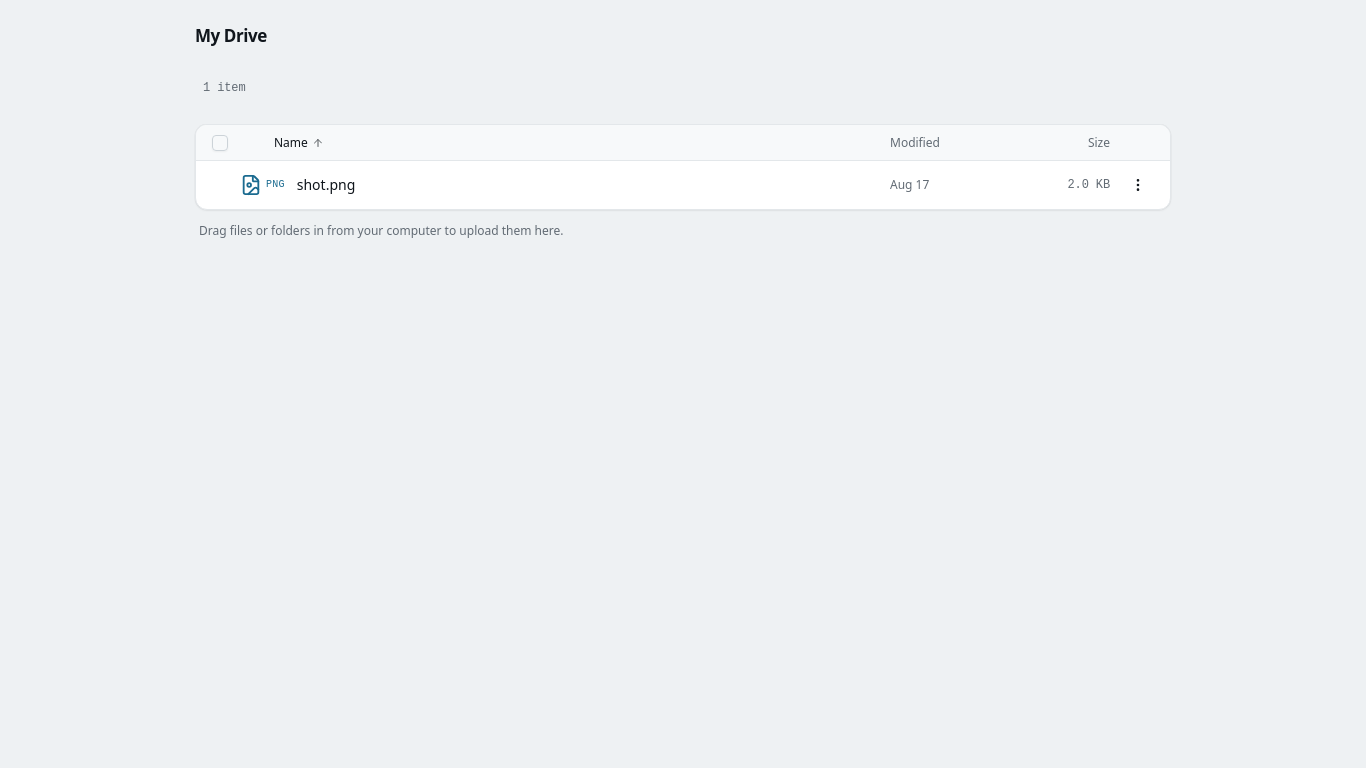
Test: opening a preview › closes on Escape and takes the parameter with it
Click the link "shot.png" at (326, 185), box 297,175 -> 355,194
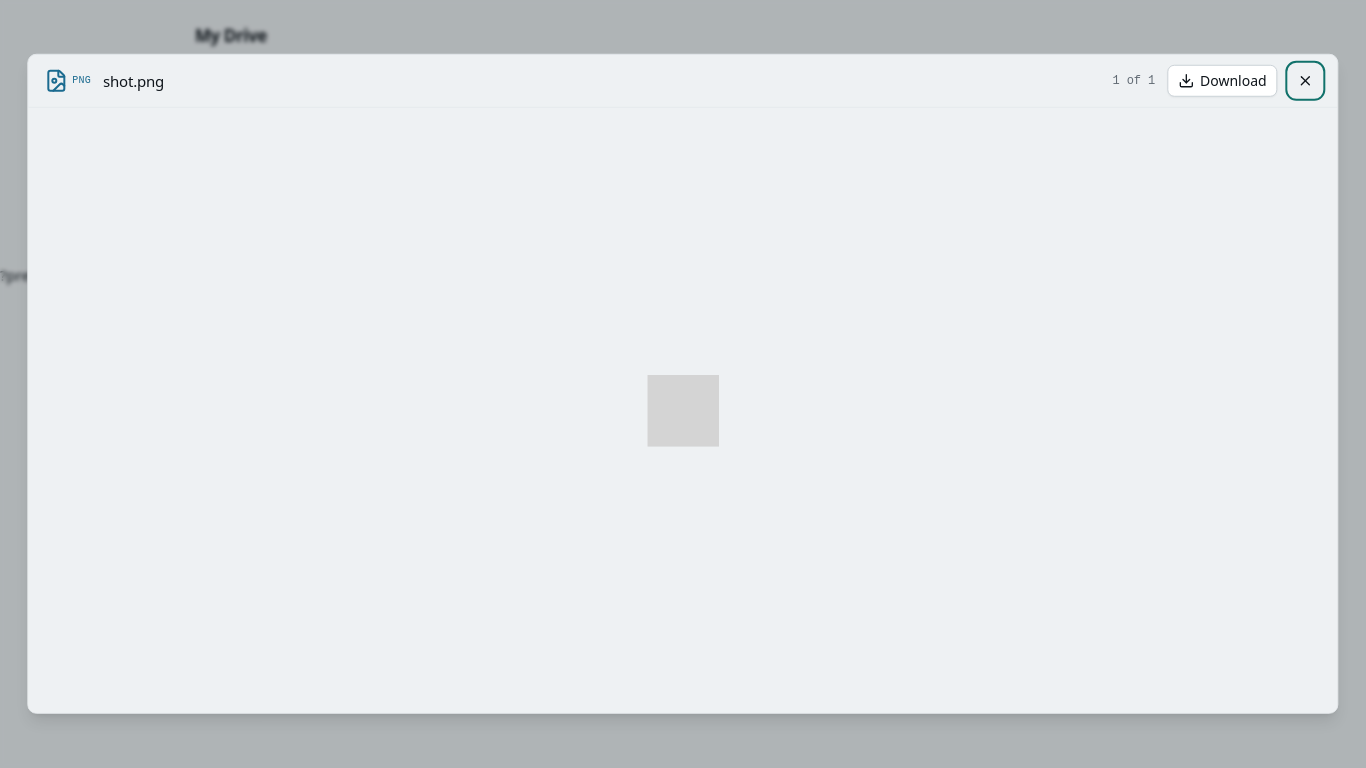
Result: the dialog is shown
Press Escape
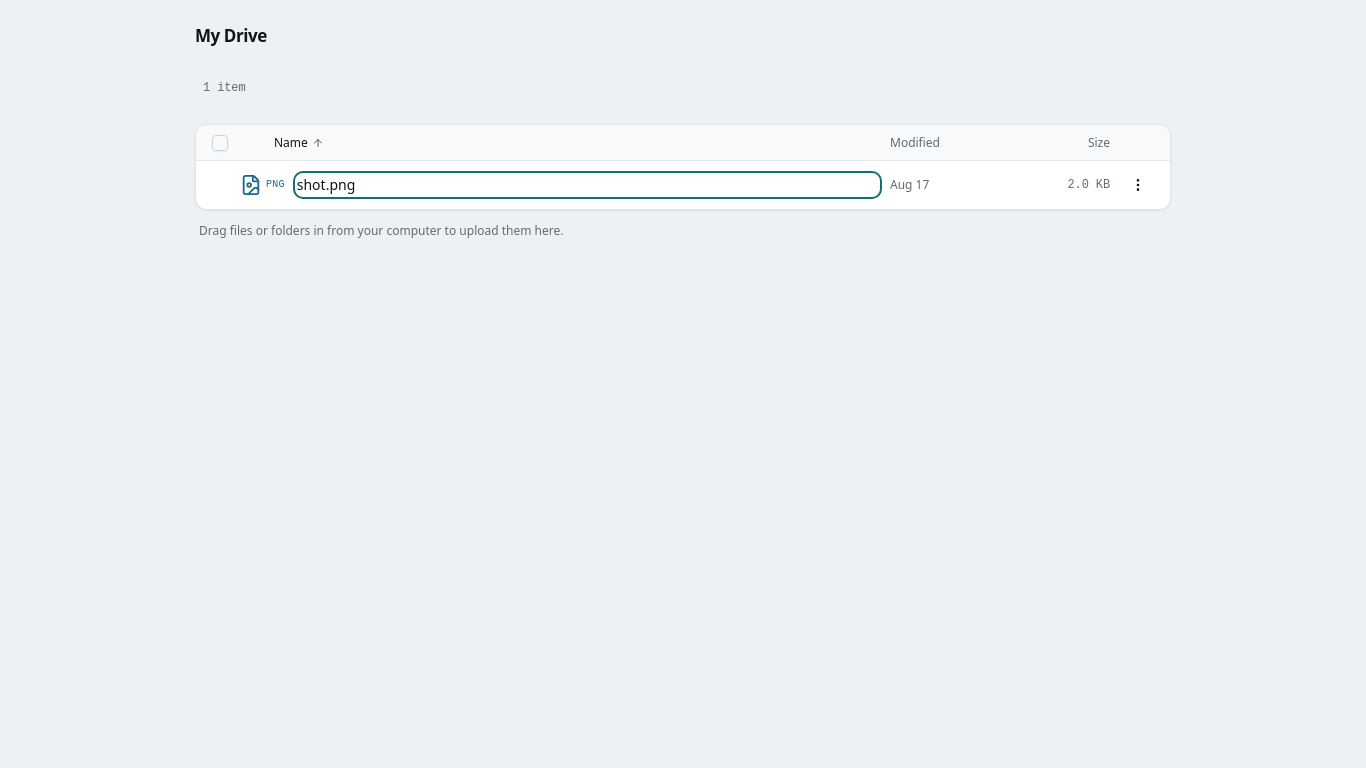
Result: the dialog is gone
